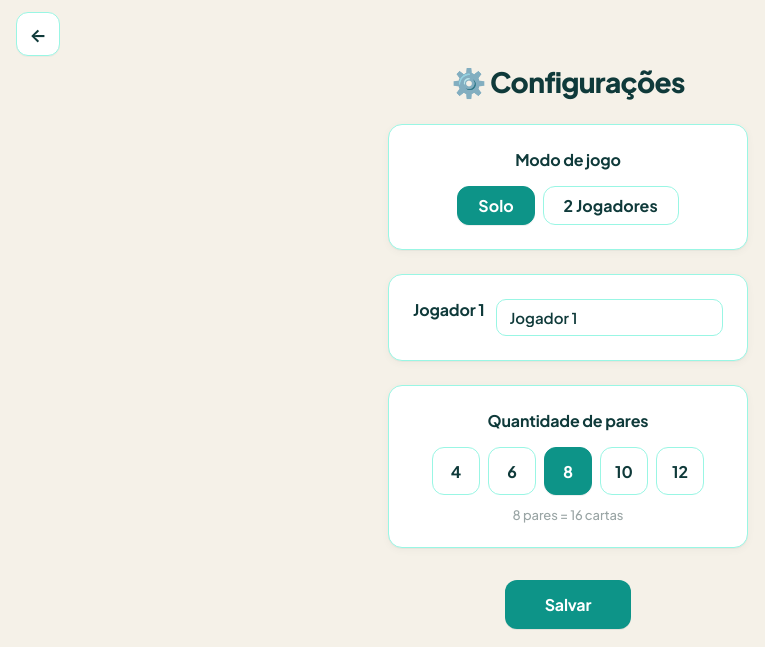
Test: Settings — exibição inicial › atualiza hint ao selecionar nova opção
The width and height of the screenshot is (765, 647).
Click the button "6": (512, 471) [488,447,536,495]
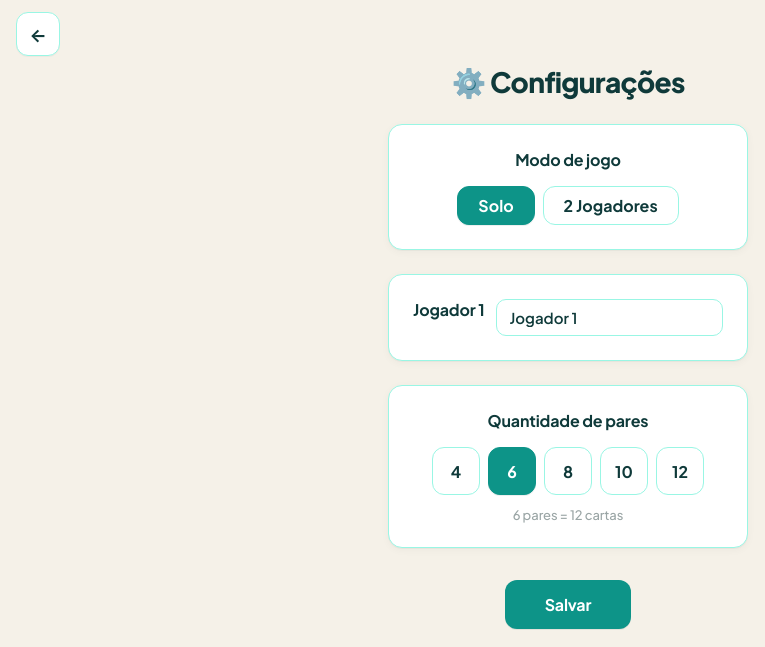
Now the text "6 pares = 12 cartas" is shown, box [513,507,623,523]
